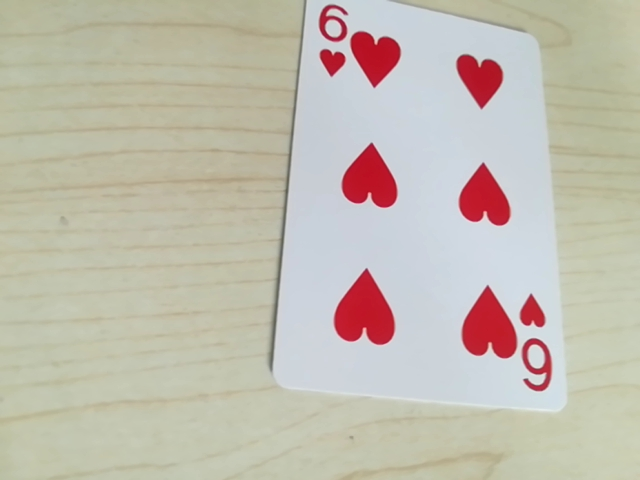hx 6: (310, 0, 357, 78), (512, 317, 553, 396)
